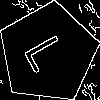L: (23, 28, 76, 75)
